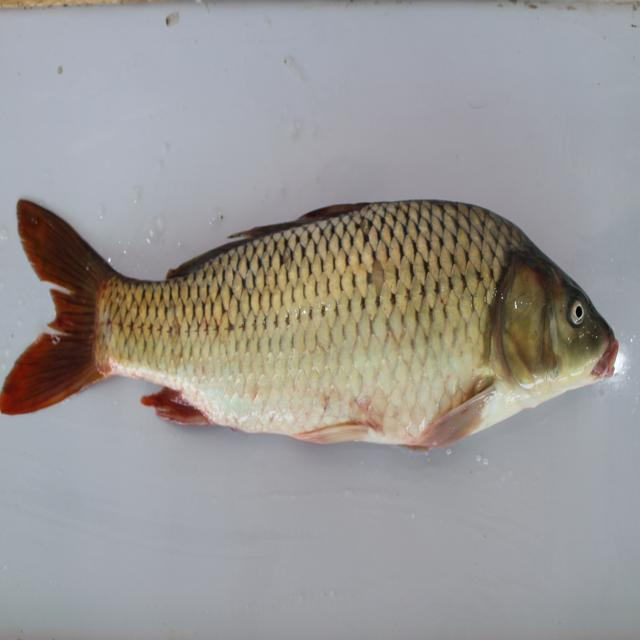CommonCarp: (9, 186, 632, 483)
